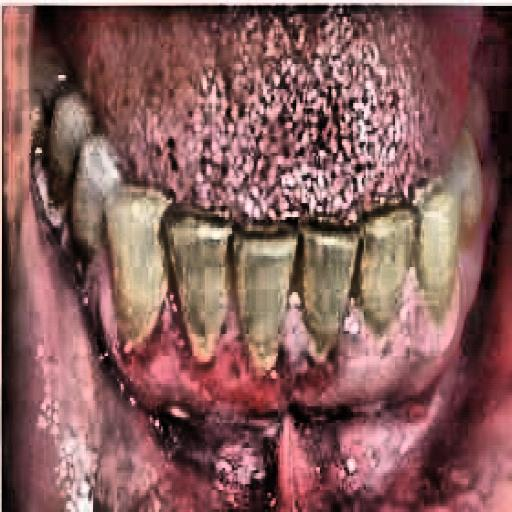Gingivitis: (68, 255, 489, 437)
